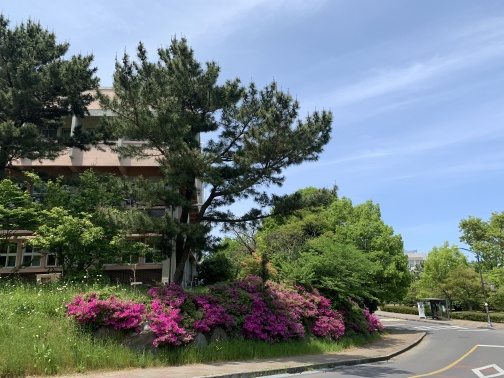College Of Education: (4, 82, 209, 289)
